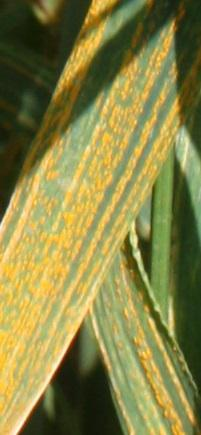Wheat: (0, 122, 172, 433), (111, 292, 195, 435)
